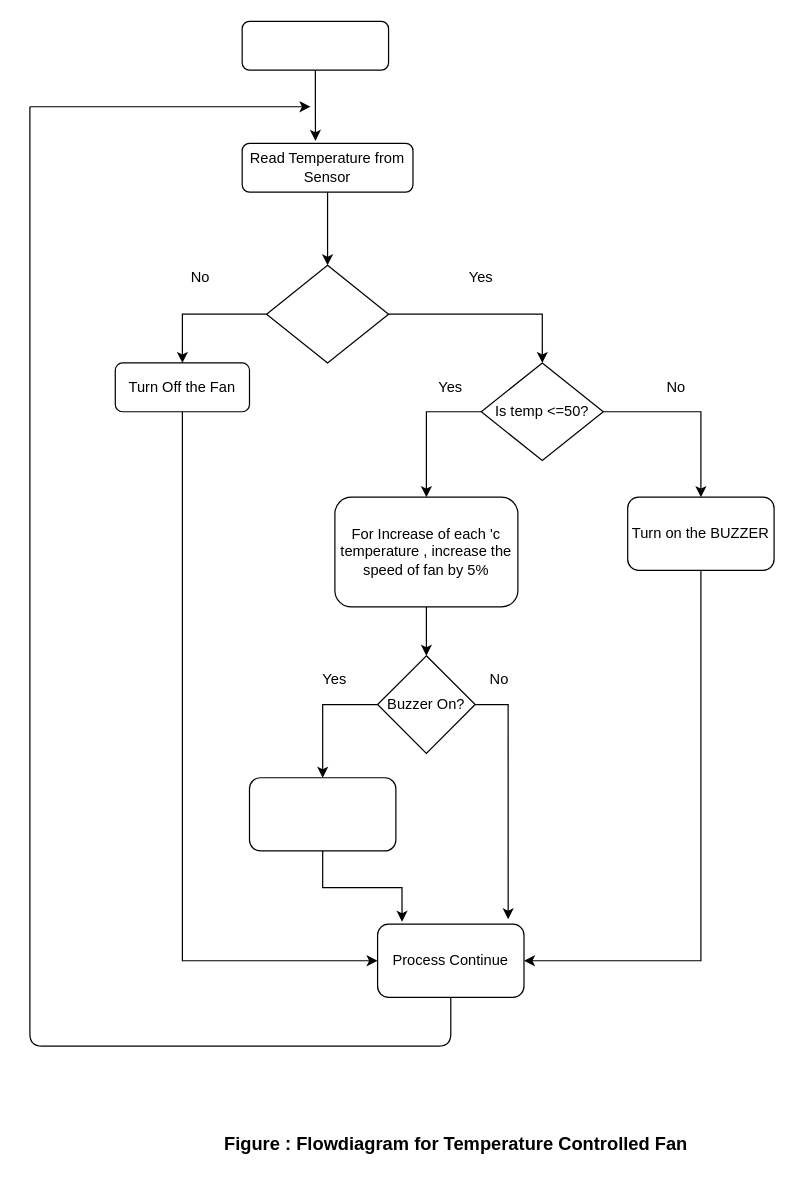
Some shapes in this 795 by 1177 pixel diagram are drawn without their labels. The centre of each missing label's shape, as x and y in pixels:
Is temp > 30?: pixel 327 313
Start: pixel 315 45
Turn off the BUZZER: pixel 322 814
